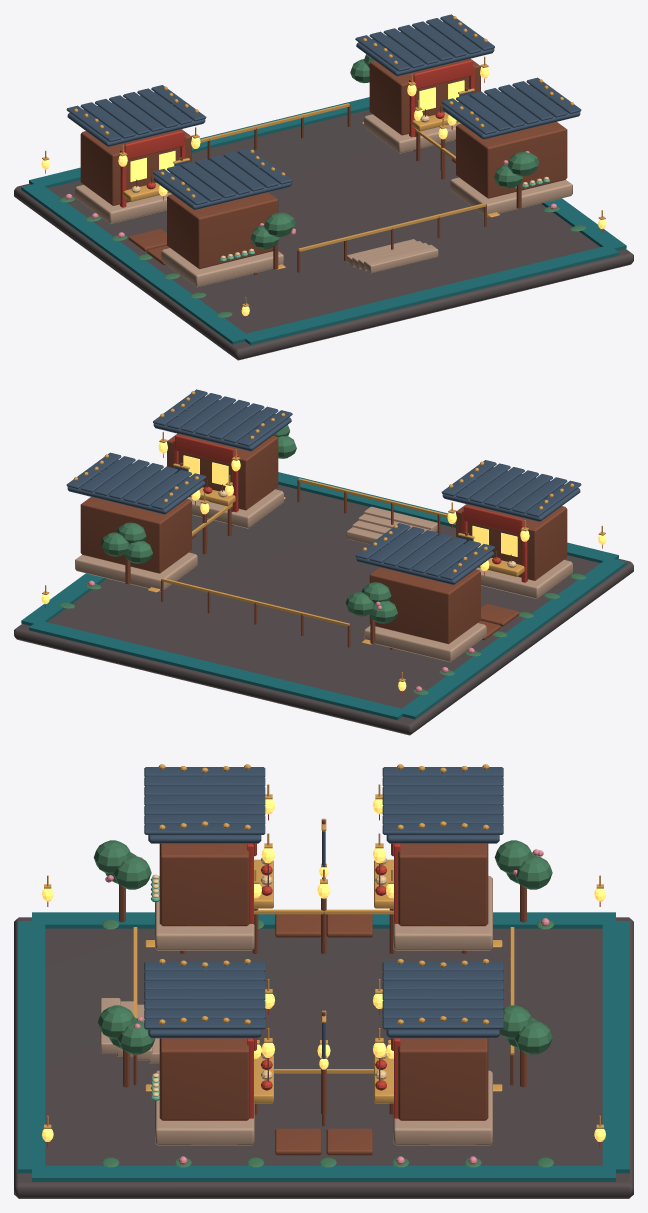
Rendered from environment.glb.
The picture shows the model from 3 angles, top to bottom: view 1: azimuth 30°, elevation 25°; view 2: azimuth 150°, elevation 25°; view 3: azimuth 270°, elevation 25°; orthographic projection. The views are drawn at different scales.
Parts seen in each view (by area): view 1: floating night-market island, batched static mahogany timber, batched static indigo roof tiles, batched static canal teal, batched static warm limestone, batched static antique brass, batched static foliage, batched static lacquer vermilion, batched static lantern inner light; view 2: floating night-market island, batched static indigo roof tiles, batched static mahogany timber, batched static canal teal, batched static warm limestone, batched static foliage, batched static antique brass, batched static lacquer vermilion, batched static lantern inner light; view 3: floating night-market island, batched static mahogany timber, batched static indigo roof tiles, batched static canal teal, batched static warm limestone, batched static foliage, batched static antique brass, batched static lantern inner light, batched static lacquer vermilion, batched static shop paper.
Boxes of the visible parts, x1,y1,x2,y2 form: floating night-market island: (14, 109, 633, 360); batched static mahogany timber: (80, 58, 567, 274); batched static indigo roof tiles: (66, 14, 581, 209); batched static canal teal: (21, 97, 626, 345); batched static warm limestone: (75, 114, 572, 287); batched static antique brass: (42, 16, 605, 306); batched static foliage: (59, 54, 585, 317); batched static lacquer vermilion: (45, 60, 602, 319); batched static lantern inner light: (41, 67, 606, 316); floating night-market island: (14, 484, 633, 735); batched static indigo roof tiles: (66, 389, 581, 584); batched static mahogany timber: (80, 433, 567, 649); batched static canal teal: (21, 472, 626, 720); batched static warm limestone: (75, 489, 572, 662); batched static foliage: (59, 425, 585, 694); batched static antique brass: (42, 391, 605, 681); batched static lacquer vermilion: (45, 435, 602, 694); batched static lantern inner light: (41, 442, 606, 691); floating night-market island: (14, 917, 633, 1198); batched static mahogany timber: (119, 819, 526, 1155); batched static indigo roof tiles: (144, 767, 503, 1038); batched static canal teal: (18, 912, 629, 1181); batched static warm limestone: (100, 876, 492, 1145); batched static foliage: (93, 840, 553, 1167); batched static antique brass: (44, 764, 603, 1128); batched static lantern inner light: (42, 799, 605, 1141); batched static lacquer vermilion: (47, 814, 600, 1147); batched static shop paper: (152, 857, 386, 1096).
Bounding box in the file's own units: 7.9 × 2.39 × 7.7.
